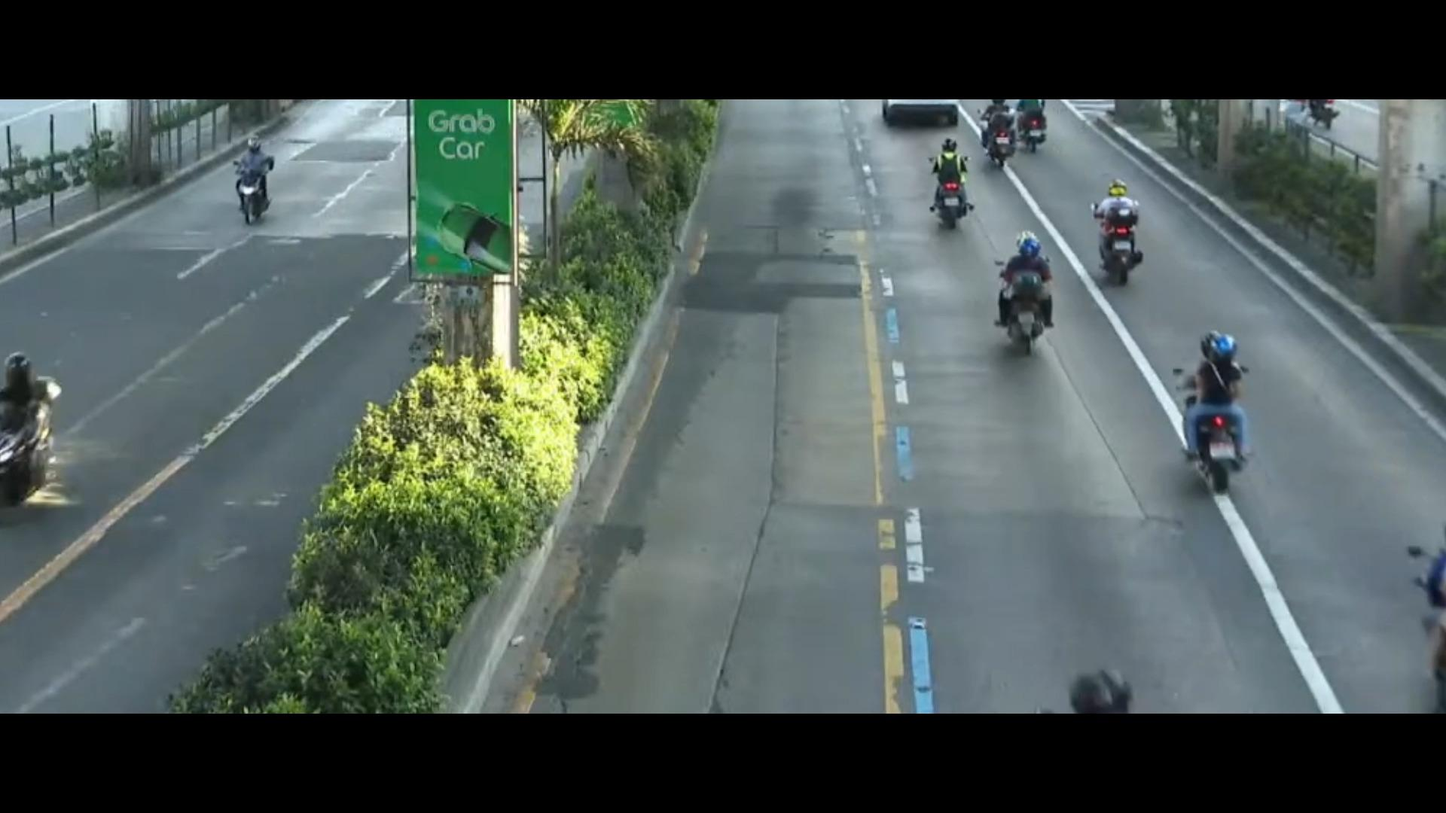Motorcycle: (1146, 324, 1288, 489), (0, 319, 71, 533), (982, 214, 1074, 370), (1070, 169, 1163, 286), (915, 133, 1002, 242), (208, 128, 272, 250), (975, 93, 1022, 177), (1005, 93, 1065, 151)
